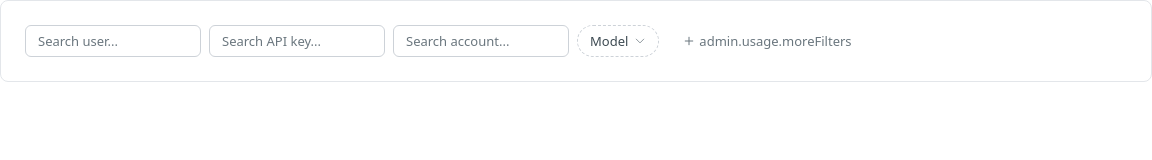
Test: UsageFilters — user search dropdown › keeps results from the latest user search when responses arrive out of order
Type "a" into the field with placeholder "Search user...". click: point(113, 41)
box: [25, 25, 201, 57]
Wait 300 ms
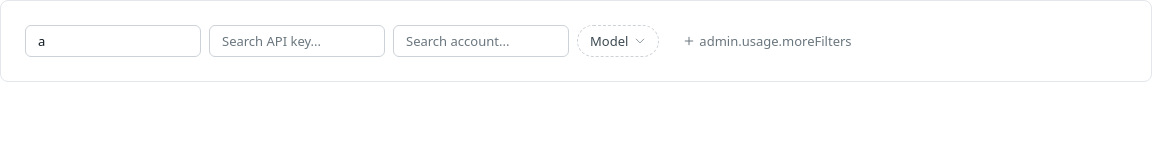
Replace the text in the field named "Search user..." with "ab". click: point(113, 41)
box: [25, 25, 201, 57]
Wait 300 ms
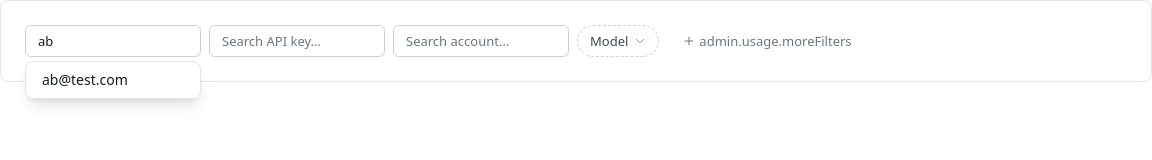
Now the text "ab@test.com" is shown, box [42, 70, 128, 89]
